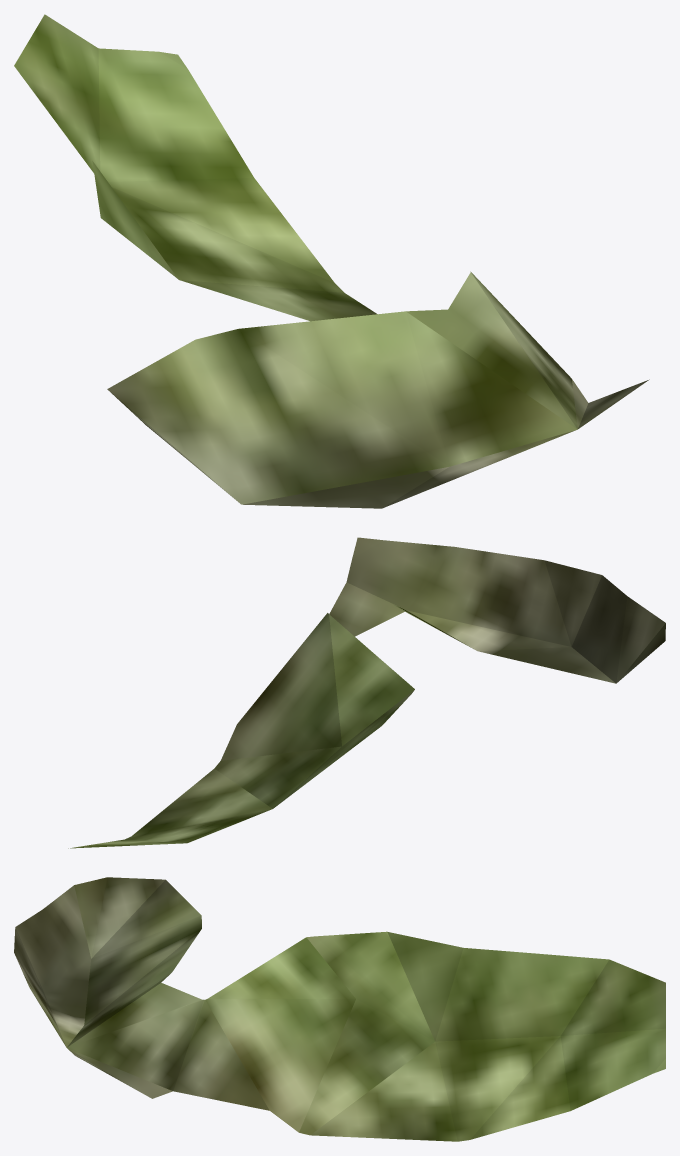
The picture shows the model from 3 angles, top to bottom: view 1: azimuth 30°, elevation 25°; view 2: azimuth 150°, elevation 25°; view 3: azimuth 270°, elevation 25°; orthographic projection. The views are drawn at different scales.
Bounding box in the file's own units: 0.345 × 0.1303 × 0.6504.
Materials: 1 (1 with a texture image).
